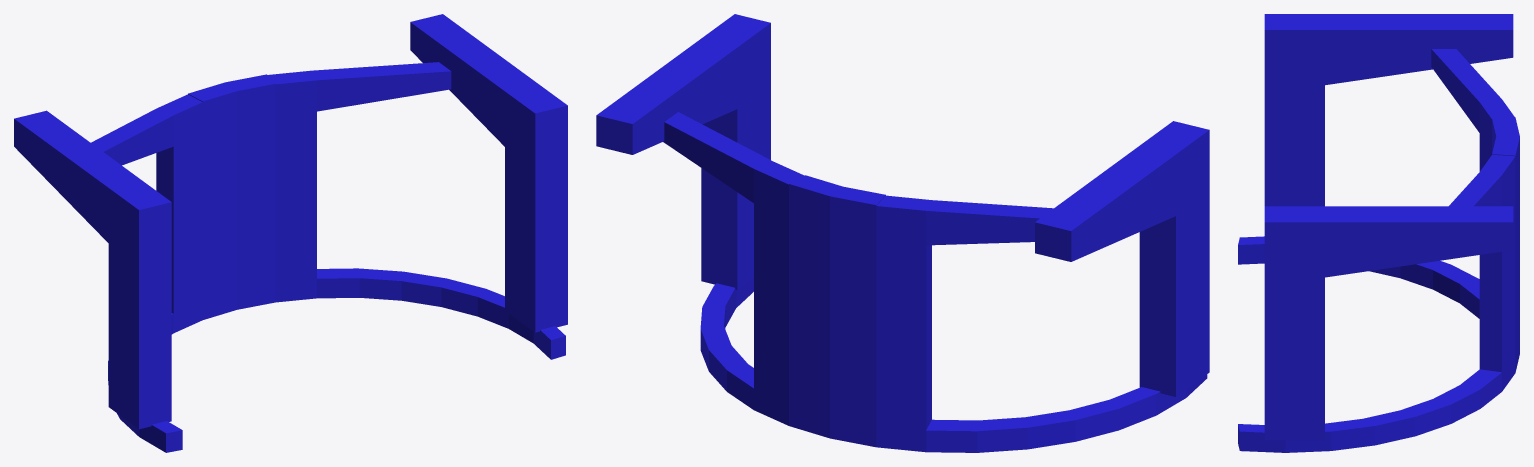
File: support2.glb
3 renders of one model, left to right at view 1: azimuth 30°, elevation 25°; view 2: azimuth 150°, elevation 25°; view 3: azimuth 270°, elevation 25°, orthographic. The views are drawn at different scales.
Parts seen in each view (by area): view 1: Cube.033; view 2: Cube.033; view 3: Cube.033.
Part boxes in pixels (box(x1,y1,x2,y2)): Cube.033: box(14, 14, 567, 452); Cube.033: box(596, 14, 1209, 452); Cube.033: box(1238, 14, 1519, 452).
Size of the model in its own units: 15.25 by 8.06 by 8.73.
